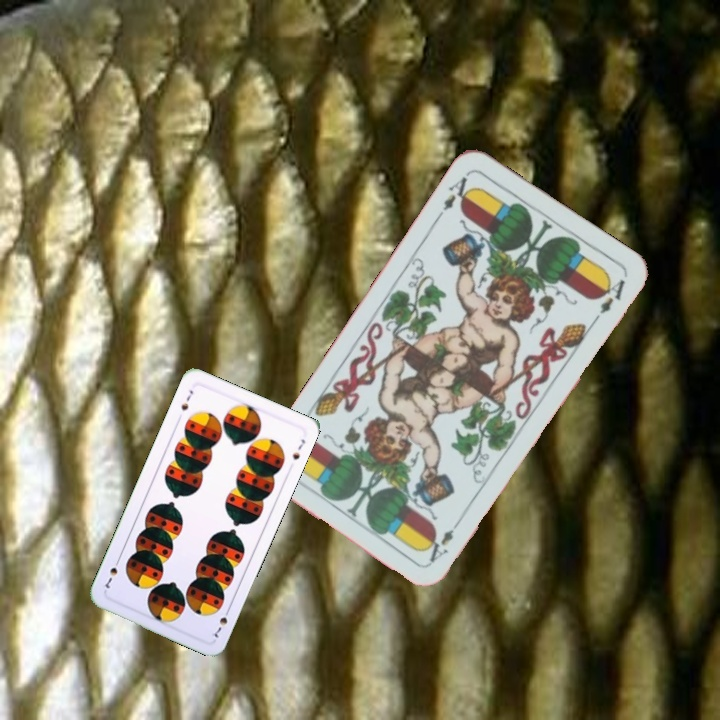EA: (432, 170, 476, 222), (425, 513, 465, 566)
S7: (207, 604, 233, 640), (177, 386, 196, 413)
